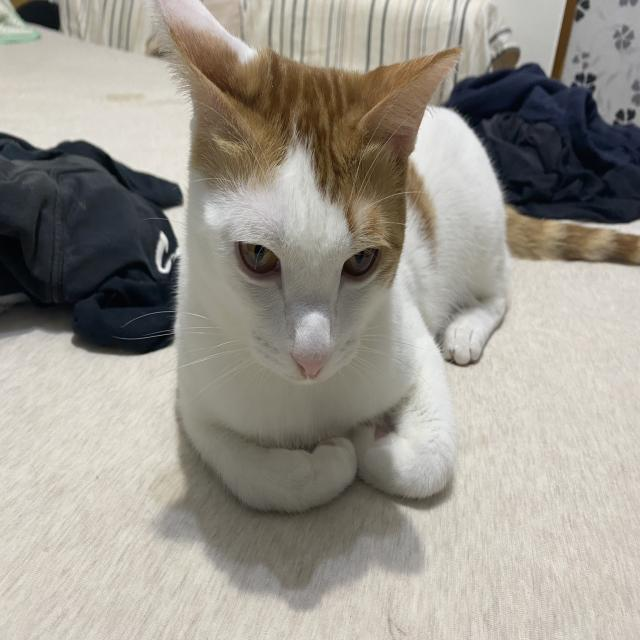cat1: (152, 2, 640, 516)
